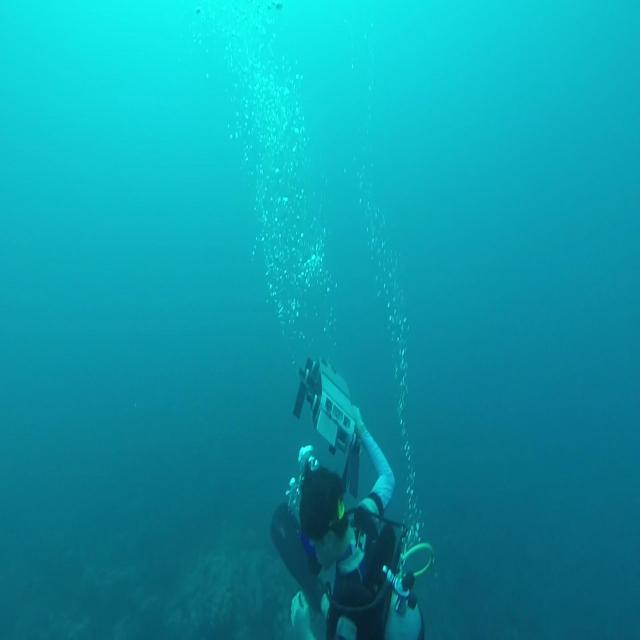human: (269, 357, 432, 638)
